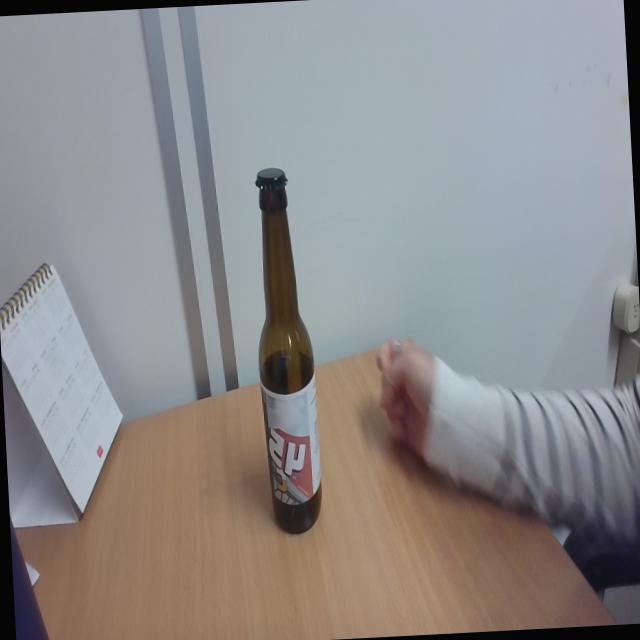Bottle: (249, 160, 325, 540)
Label: (262, 379, 322, 504), (254, 165, 289, 198)
